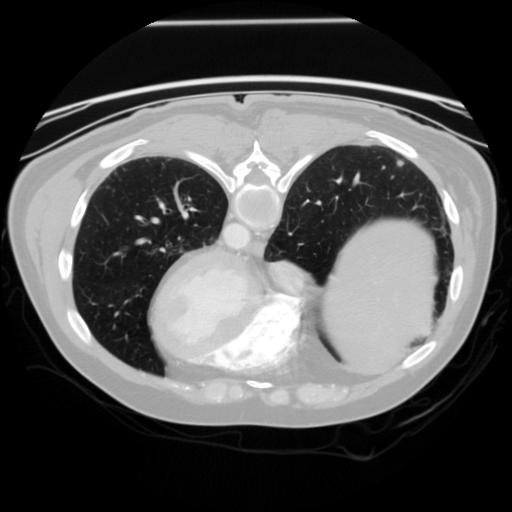nodule: (396, 158, 409, 171)
